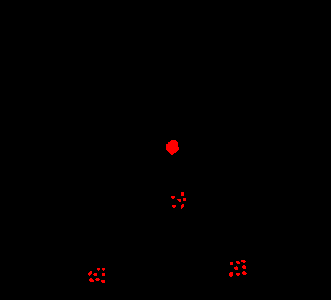Target: (166, 140, 179, 155), (88, 271, 92, 276), (242, 271, 247, 275), (229, 272, 233, 277), (89, 278, 94, 282), (242, 265, 246, 269), (234, 266, 238, 270), (181, 204, 184, 209), (241, 260, 246, 263), (95, 278, 100, 281), (181, 192, 184, 196), (171, 196, 175, 199), (177, 199, 181, 202), (172, 205, 176, 208), (236, 261, 240, 264), (93, 273, 97, 276), (236, 273, 240, 276), (101, 280, 105, 283), (183, 198, 186, 201), (230, 262, 233, 265), (97, 268, 100, 271), (102, 268, 105, 271), (102, 273, 105, 276)
